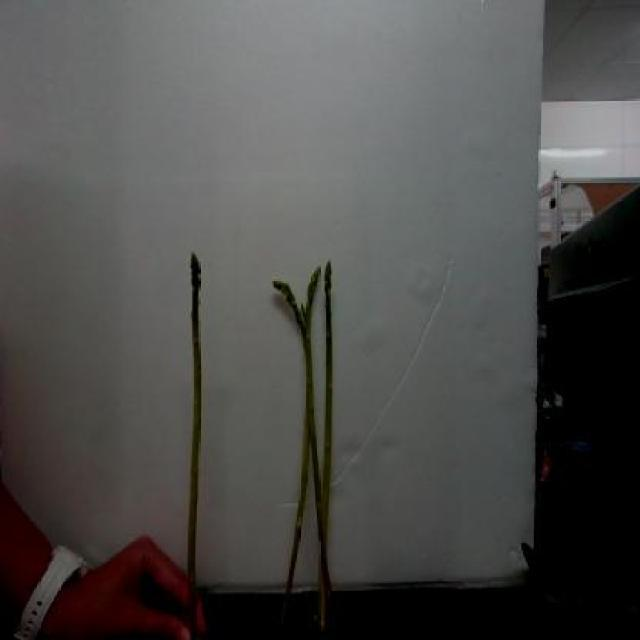aspargus: (316, 261, 336, 640), (189, 255, 205, 626)
